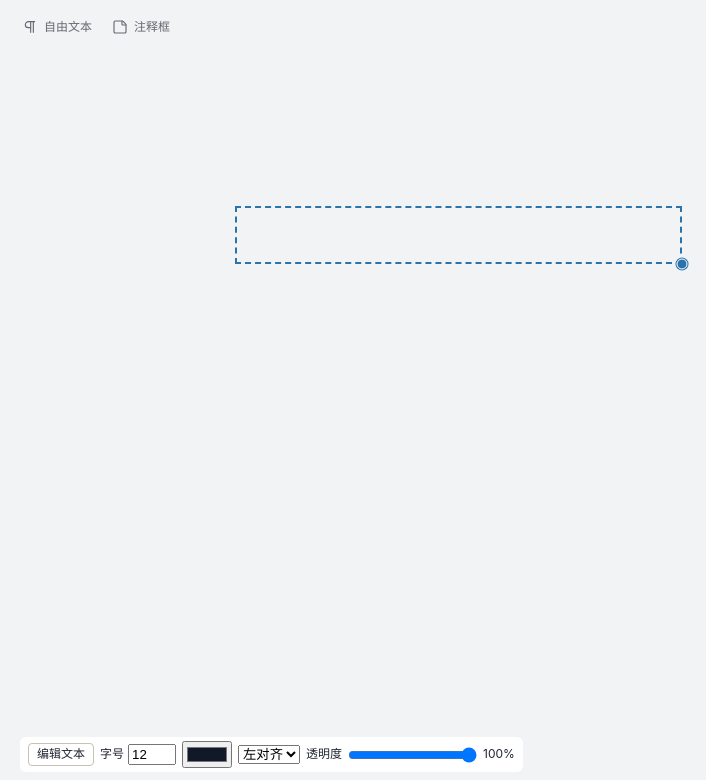
Test: FreeTextLayer editing › opens the editor by double-clicking the box
Double-click the element with test id "free-text-hit-ft-1" at [458, 235], box [235,206,682,264]
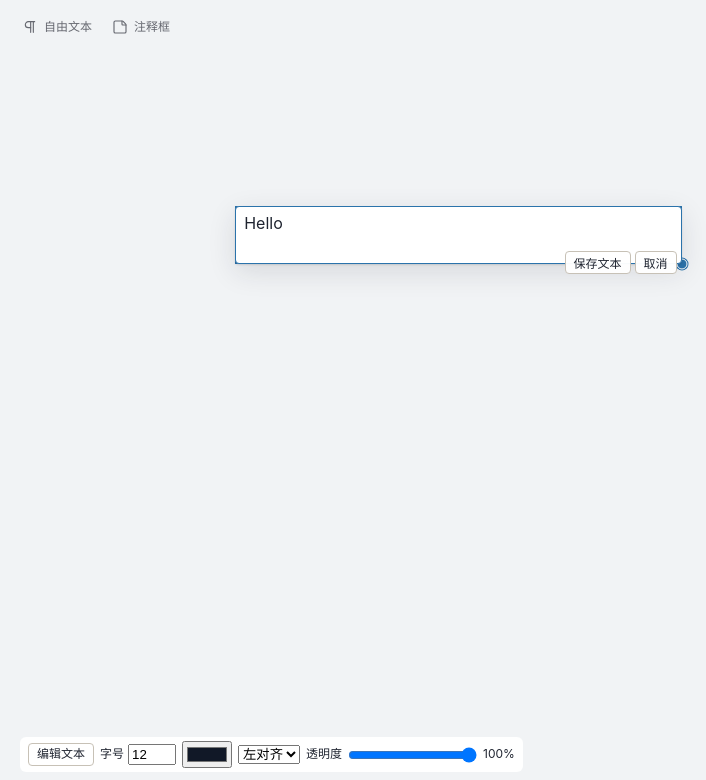
Now the text box named "自由文本编辑器" holds "Hello", box [240,211,677,247]
